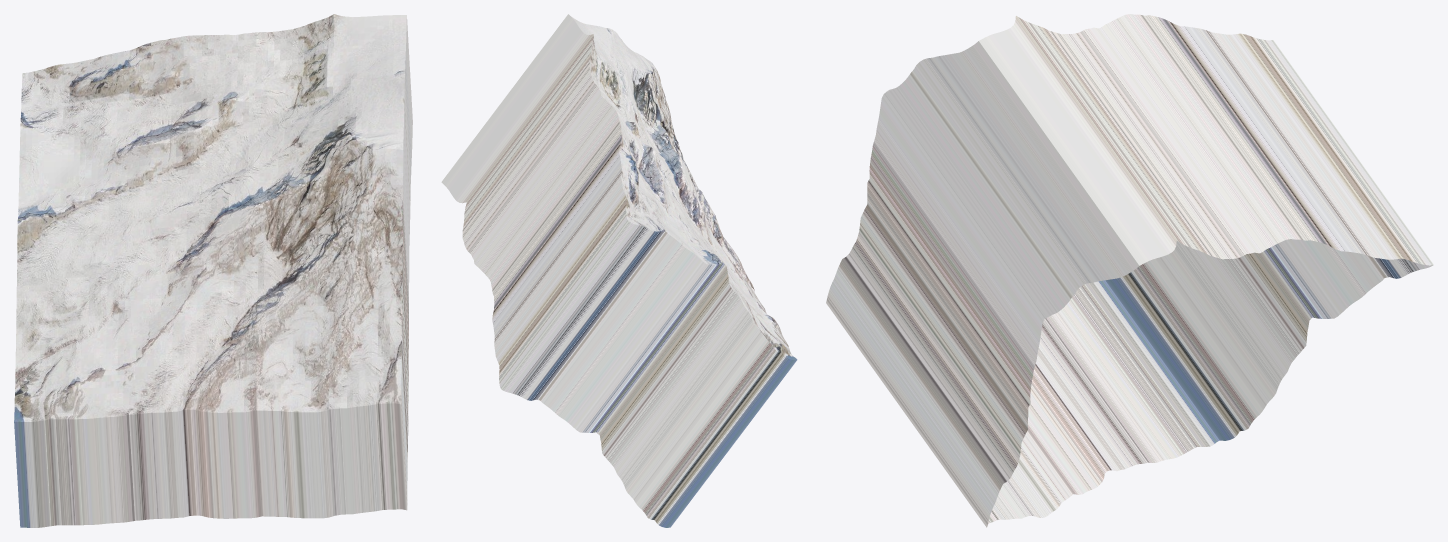
The picture shows the model from 3 angles, left to right: view 1: azimuth 30°, elevation 25°; view 2: azimuth 150°, elevation 25°; view 3: azimuth 270°, elevation 25°; orthographic projection. The views are drawn at different scales.
Size of the model in its own units: 5352 by 6270 by 6594.
Materials: 1 (1 with a texture image).
